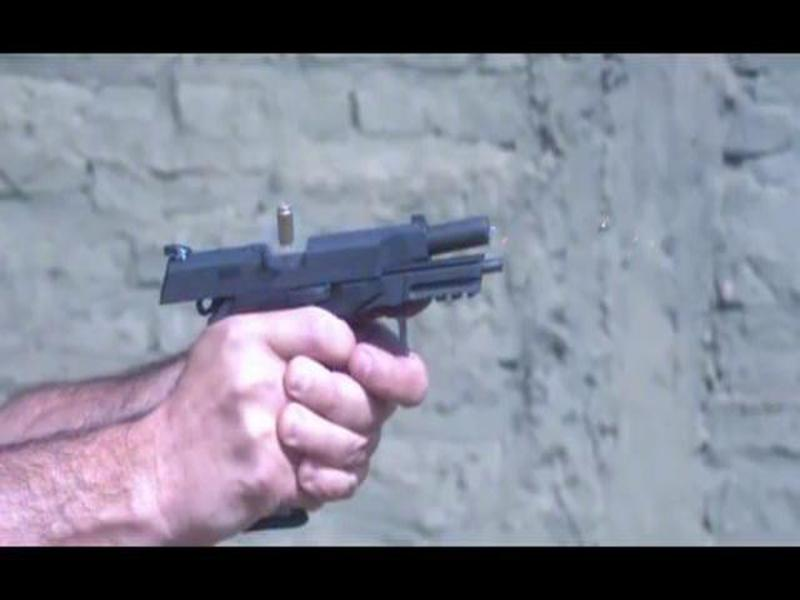Pistola: (130, 164, 557, 402)
